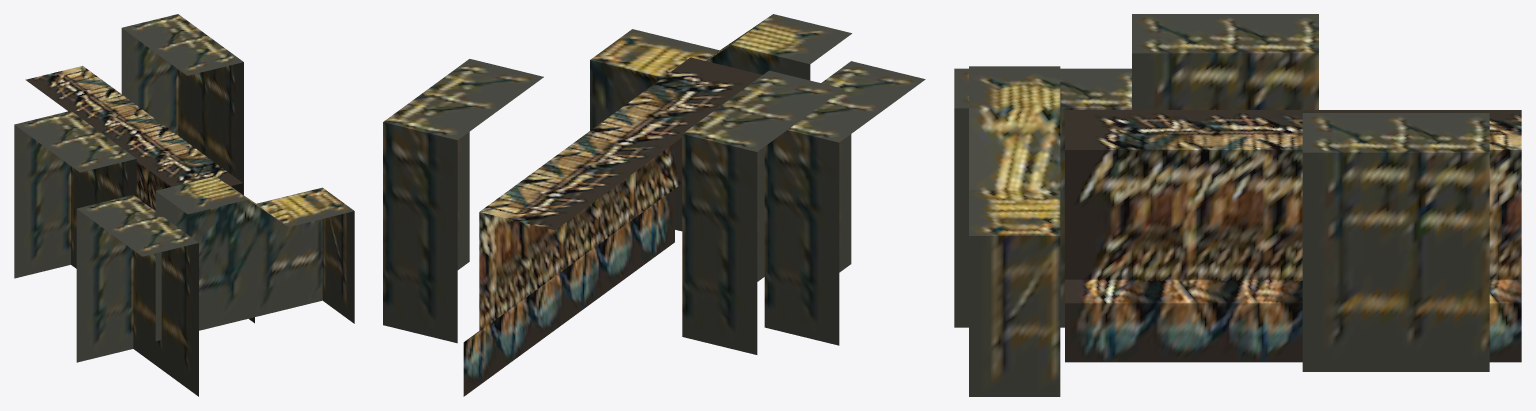
Rendered from F_GuildRampart_02.fbx.
3 renders of one model, left to right at view 1: azimuth 30°, elevation 25°; view 2: azimuth 150°, elevation 25°; view 3: azimuth 270°, elevation 25°, orthographic. The views are drawn at different scales.
Parts seen in each view (by area): view 1: T_BuildForm_03, T_BuildForm_02, T_BuildForm_02 (2), T_BuildForm_02 (1), F_GuildRampart_02; view 2: F_GuildRampart_02, T_BuildForm_02 (1), T_BuildForm_02 (2), T_BuildForm_02, T_BuildForm_03; view 3: F_GuildRampart_02, T_BuildForm_02 (1), T_BuildForm_03, T_BuildForm_02 (2), T_BuildForm_02.
Boxes of the visible parts, x1,y1,x2,y2 form: T_BuildForm_03: (155,176,354,341); T_BuildForm_02: (76,195,198,396); T_BuildForm_02 (2): (14,110,136,278); T_BuildForm_02 (1): (121,14,243,194); F_GuildRampart_02: (25,66,254,323); F_GuildRampart_02: (463,57,762,396); T_BuildForm_02 (1): (383,59,543,343); T_BuildForm_02 (2): (682,70,843,354); T_BuildForm_02: (764,61,925,345); T_BuildForm_03: (590,14,851,231); F_GuildRampart_02: (1065,110,1521,362); T_BuildForm_02 (1): (1302,113,1489,371); T_BuildForm_03: (969,66,1060,396); T_BuildForm_02 (2): (1132,14,1318,109); T_BuildForm_02: (954,68,1131,327).
Size of the model in its own units: 0.4874 by 0.4255 by 0.7508.
Materials: 2 (2 with a texture image).
